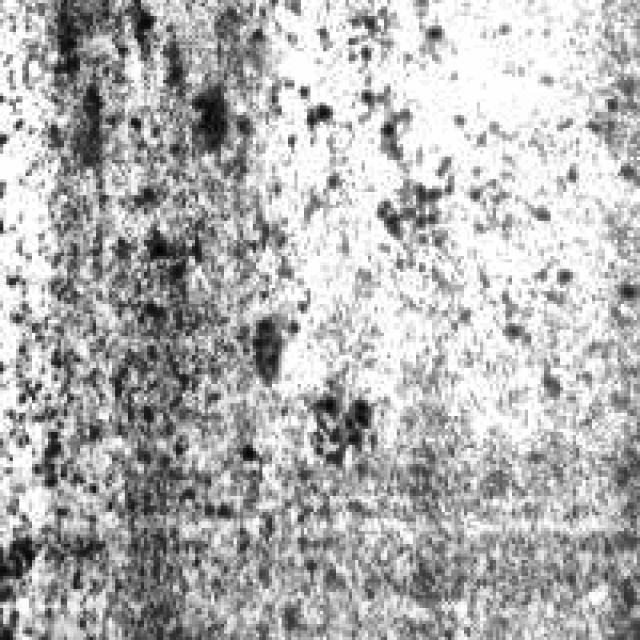Rolled_in_Scale: (112, 0, 640, 374)
